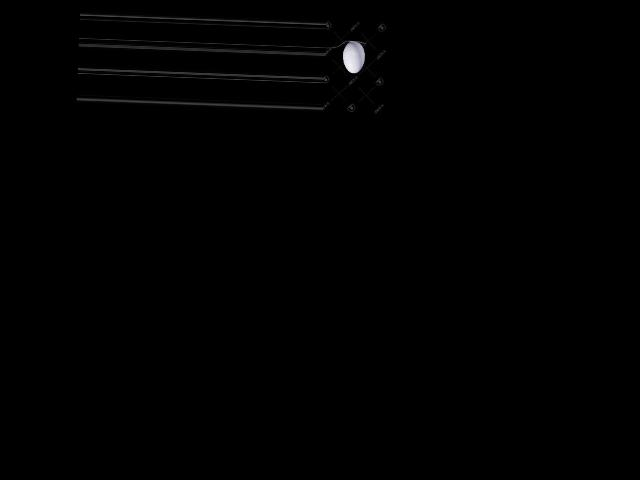egg: (341, 40, 365, 73)
